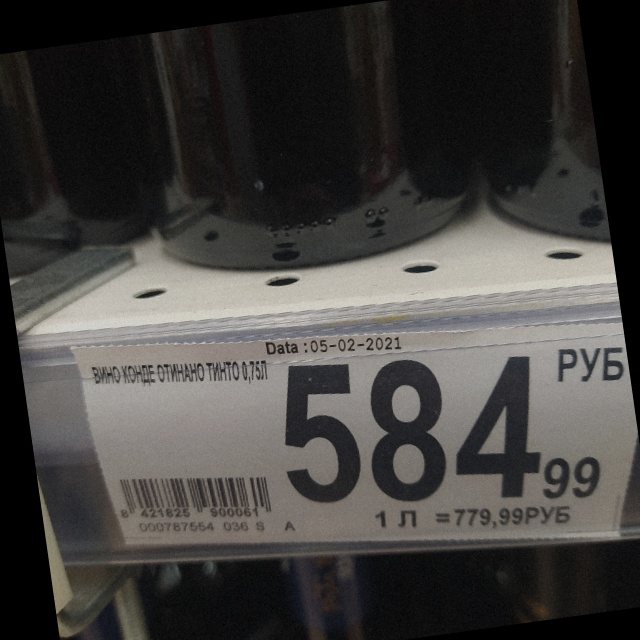barcode: (117, 475, 272, 521)
name: (90, 358, 272, 386)
price: (281, 354, 602, 508)
price_tag: (73, 328, 626, 538)
